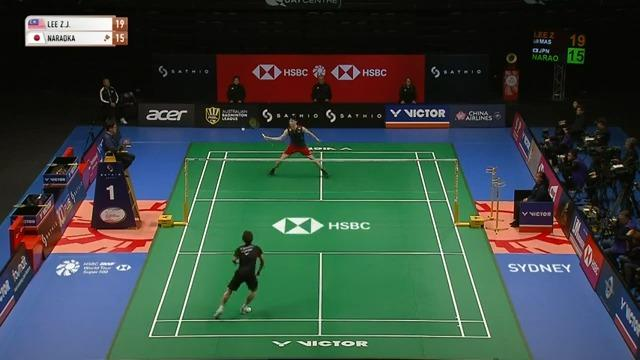Shuttlecock: (239, 126, 247, 132)
